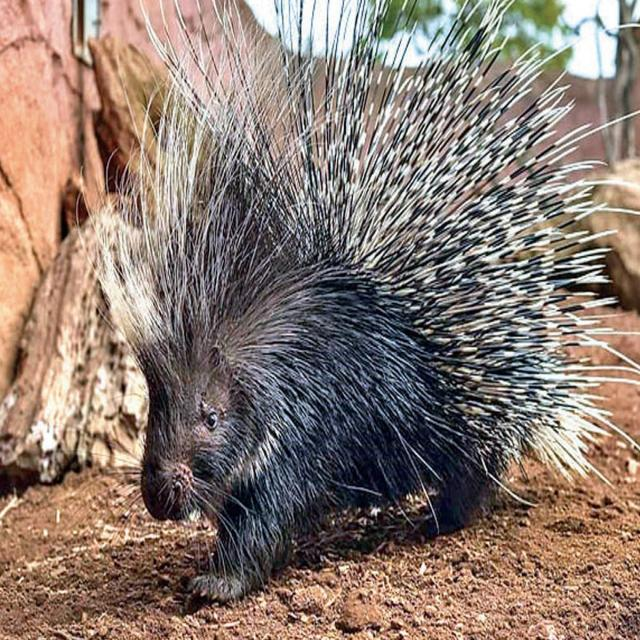porcupine: (83, 0, 622, 599)
